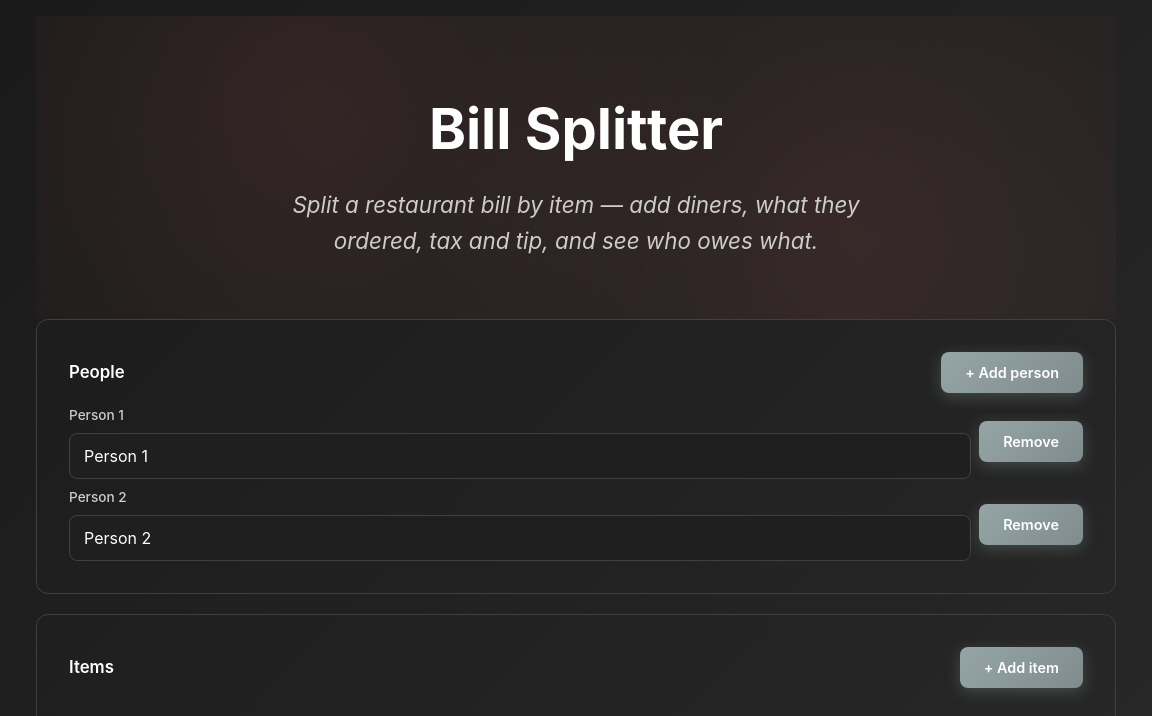
Test case: <BillSplitter /> › Add person appends a new person row
Click the button "+ Add person": x=1012, y=372 x1=941 y1=352 x2=1083 y2=393
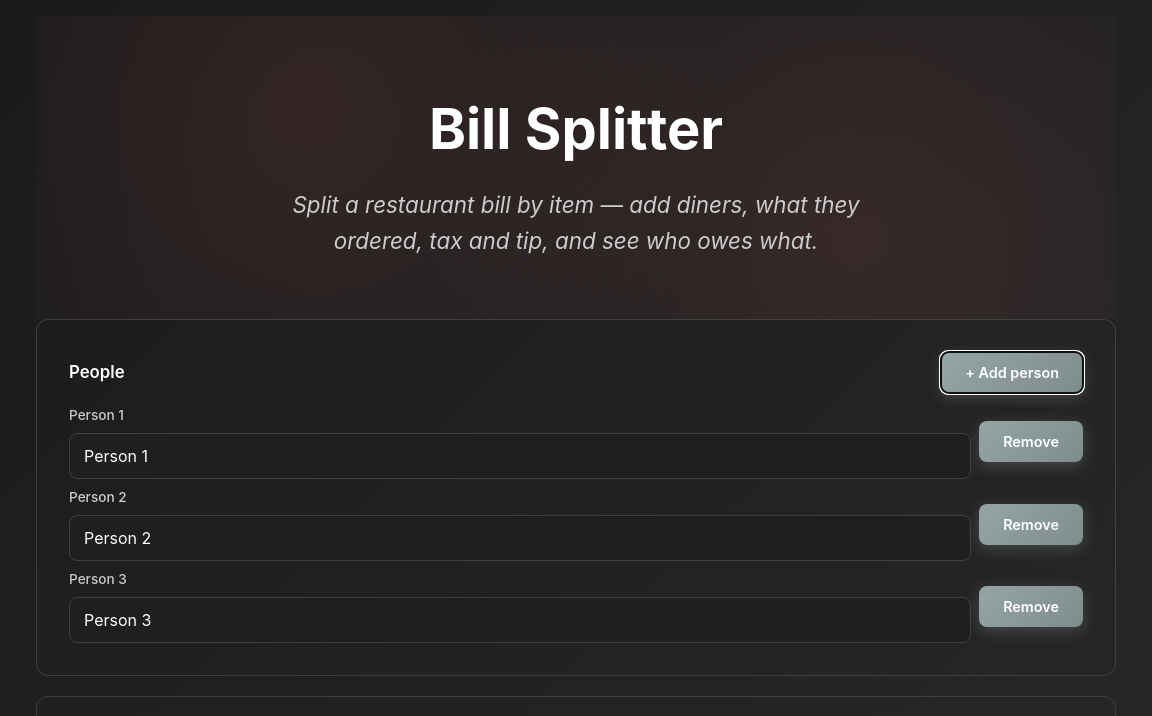
Result: the field showing "person 3" is shown at x1=69 y1=597 x2=971 y2=643
